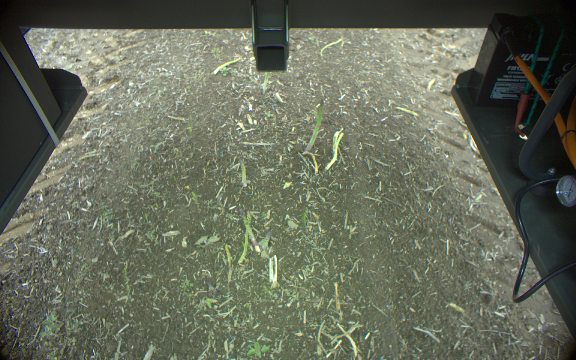aspa: (300, 98, 328, 153), (235, 206, 259, 253), (239, 211, 255, 261), (323, 132, 344, 167), (211, 57, 242, 74), (234, 158, 248, 188), (259, 230, 275, 250), (261, 73, 271, 94)
